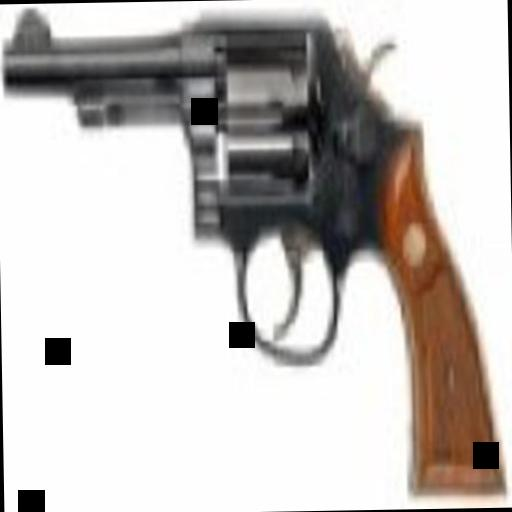Handgun: (6, 3, 496, 506)
